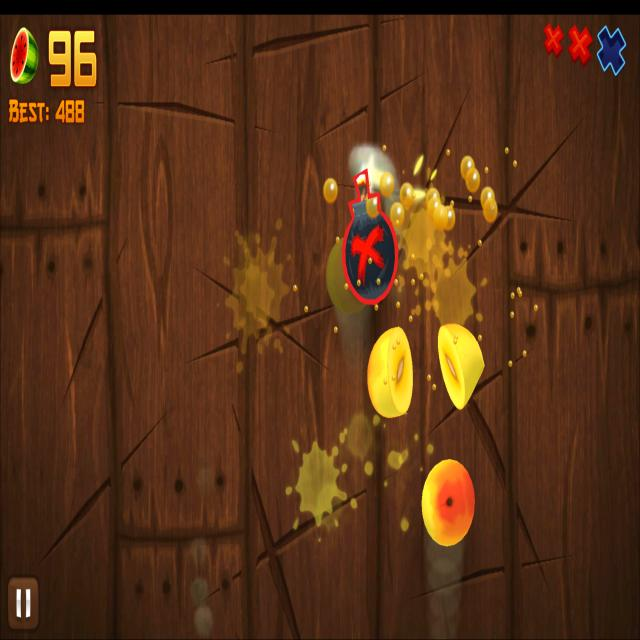bomb: (342, 169, 400, 304)
fruit: (422, 458, 475, 546)
